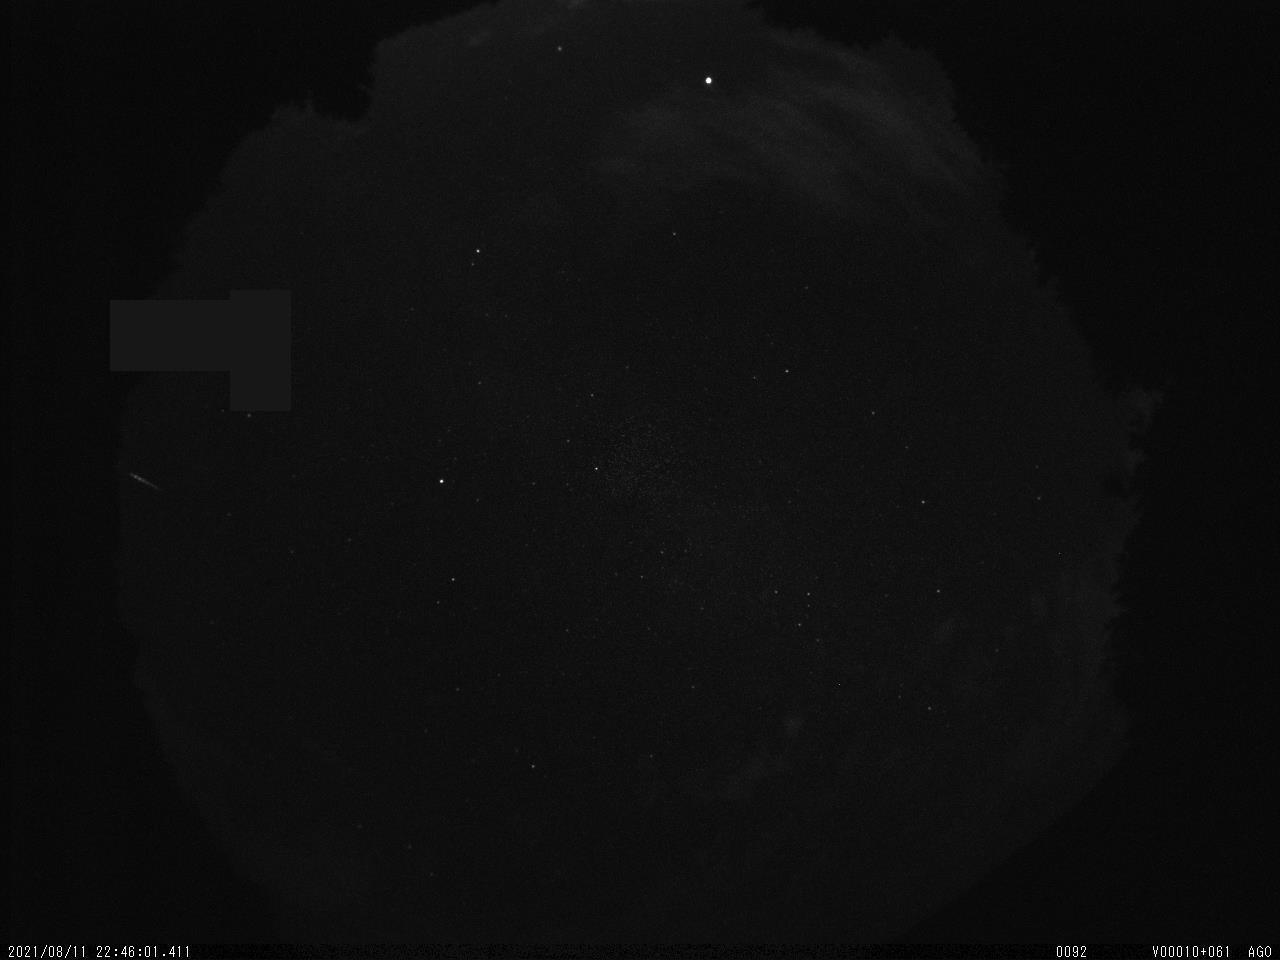meteor: (123, 445, 168, 501)
